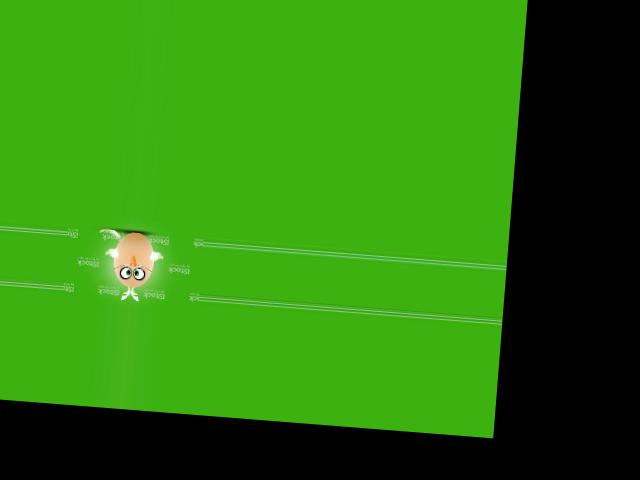egg: (111, 229, 155, 288)
